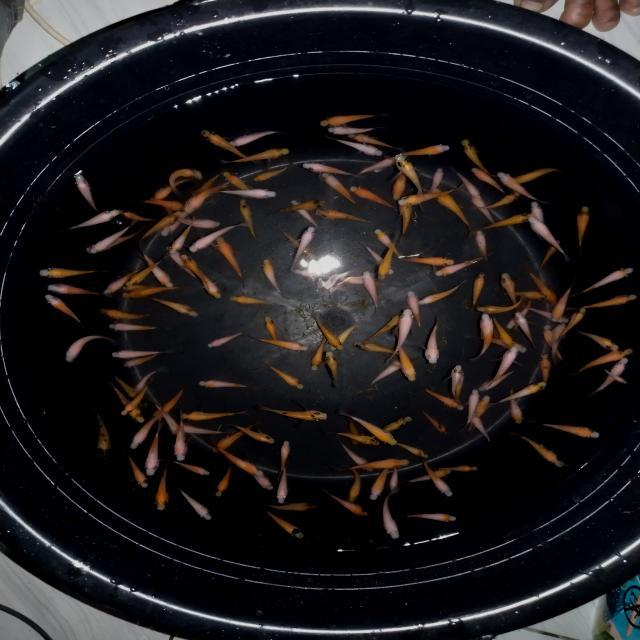nila: (426, 186, 474, 236), (507, 430, 565, 470), (340, 410, 400, 448), (570, 266, 637, 300), (206, 441, 266, 478), (525, 214, 571, 262), (197, 128, 254, 166), (188, 220, 251, 254), (566, 346, 635, 376), (530, 416, 602, 444), (208, 419, 262, 456), (86, 218, 138, 256), (562, 292, 638, 318), (381, 307, 415, 365), (216, 124, 286, 152), (584, 357, 630, 399), (256, 503, 304, 543), (102, 382, 146, 425), (318, 486, 370, 522), (86, 224, 146, 254), (42, 292, 89, 330), (64, 332, 118, 365), (136, 294, 204, 320), (211, 236, 246, 286), (316, 172, 362, 210), (323, 136, 384, 164), (396, 151, 430, 201), (106, 366, 146, 408), (496, 172, 546, 205), (59, 207, 124, 232), (256, 401, 329, 423), (362, 356, 412, 388), (174, 481, 213, 522), (416, 457, 454, 499), (396, 186, 468, 208), (122, 254, 168, 288), (318, 108, 389, 130), (386, 334, 416, 386), (120, 376, 158, 417), (86, 402, 111, 464), (522, 264, 558, 307), (256, 360, 306, 390), (219, 420, 278, 445), (431, 254, 492, 278), (352, 151, 404, 179), (338, 132, 404, 154), (366, 413, 416, 442), (490, 381, 548, 406), (124, 412, 164, 448), (460, 136, 494, 178), (351, 182, 398, 212), (144, 388, 188, 420), (334, 440, 374, 475), (340, 456, 413, 475), (185, 182, 228, 214), (361, 238, 397, 276), (469, 313, 496, 363), (540, 323, 570, 368), (299, 161, 366, 181), (119, 446, 150, 489), (141, 428, 167, 479), (417, 280, 468, 306), (70, 170, 99, 215), (506, 164, 562, 187), (160, 207, 199, 240), (392, 468, 456, 488), (472, 214, 536, 234), (570, 328, 621, 353), (222, 148, 292, 166), (554, 304, 587, 342), (130, 363, 169, 395), (287, 227, 318, 267), (548, 318, 576, 362), (473, 168, 514, 198), (282, 228, 318, 262), (149, 461, 172, 514), (488, 346, 520, 384), (421, 386, 464, 414), (520, 302, 570, 326), (372, 226, 408, 259), (164, 422, 238, 438), (472, 190, 523, 213), (146, 176, 191, 202), (464, 393, 494, 432), (394, 251, 462, 268), (120, 284, 184, 302), (44, 282, 108, 300), (177, 406, 249, 422), (448, 165, 480, 201), (550, 276, 575, 322), (380, 488, 402, 540), (397, 197, 423, 241), (366, 313, 404, 343), (162, 246, 195, 280), (467, 194, 502, 226), (243, 456, 274, 492), (312, 315, 342, 352), (424, 316, 446, 366), (474, 294, 524, 316), (260, 314, 286, 356), (466, 412, 494, 451), (34, 264, 102, 280), (291, 198, 325, 230), (167, 166, 202, 197), (100, 271, 140, 298), (251, 334, 311, 352), (326, 431, 380, 451), (204, 328, 253, 350), (261, 253, 286, 296), (140, 211, 178, 239), (164, 455, 212, 477), (308, 331, 332, 375), (474, 370, 516, 395), (534, 240, 564, 275), (473, 336, 531, 354), (316, 207, 372, 225), (501, 386, 526, 426), (328, 323, 361, 353), (348, 339, 403, 357), (498, 269, 520, 314), (179, 252, 208, 286), (366, 463, 391, 502), (218, 170, 254, 197), (574, 202, 592, 256), (458, 388, 480, 432), (213, 460, 239, 497), (220, 184, 280, 200), (418, 408, 451, 437), (374, 244, 400, 280), (340, 272, 394, 289), (237, 198, 260, 237), (110, 346, 174, 360), (401, 141, 453, 158), (225, 293, 280, 309), (528, 198, 548, 242), (488, 313, 513, 348), (344, 462, 363, 508), (397, 512, 459, 526), (506, 300, 534, 331), (361, 269, 382, 310), (274, 436, 294, 479), (390, 167, 416, 200), (197, 266, 222, 300), (194, 169, 224, 197), (390, 441, 430, 462), (120, 351, 166, 369), (96, 306, 151, 321), (514, 311, 536, 348), (402, 289, 424, 326), (130, 199, 188, 213), (276, 199, 330, 214), (168, 224, 194, 255), (181, 210, 221, 230), (152, 404, 177, 436), (252, 164, 296, 182), (466, 270, 484, 314), (471, 228, 494, 262), (423, 167, 448, 198), (194, 378, 258, 390), (595, 366, 633, 386), (534, 350, 552, 392), (499, 287, 549, 302), (324, 123, 386, 135), (326, 351, 344, 392), (172, 410, 186, 462), (293, 266, 333, 284), (263, 500, 320, 512), (344, 414, 364, 448), (110, 321, 170, 332), (274, 466, 290, 504), (122, 283, 178, 293), (384, 465, 404, 493), (118, 210, 156, 224), (453, 368, 467, 406), (430, 464, 482, 472), (448, 365, 461, 395), (162, 204, 178, 220)
